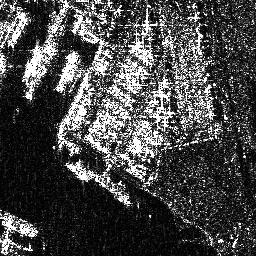ship: (22, 42, 57, 102), (1, 208, 37, 237), (55, 47, 77, 92), (65, 163, 93, 183)
